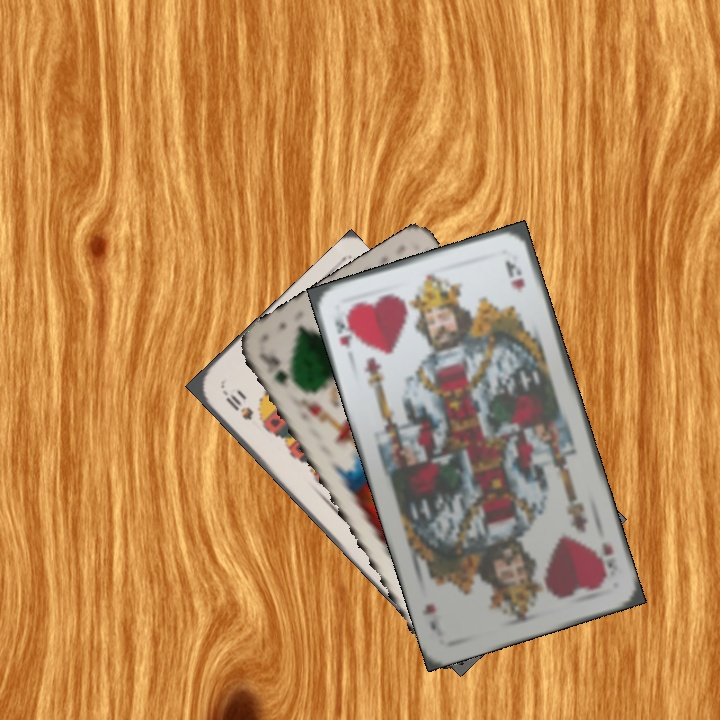GK: (255, 348, 291, 390)
HK: (330, 310, 359, 351), (597, 538, 617, 581)
S10: (218, 385, 256, 423)
